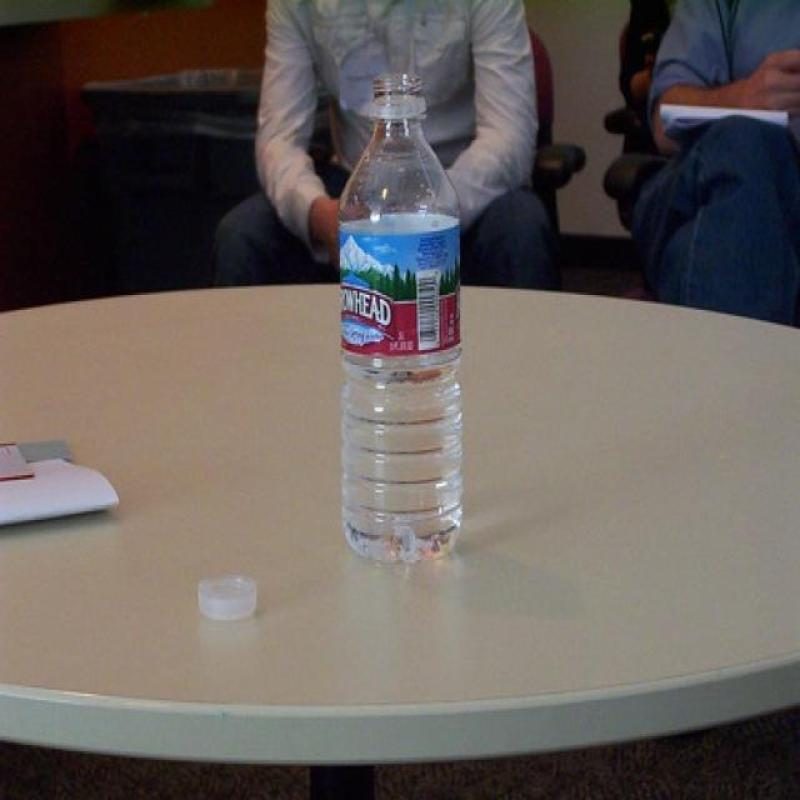botella: (339, 70, 461, 562)
